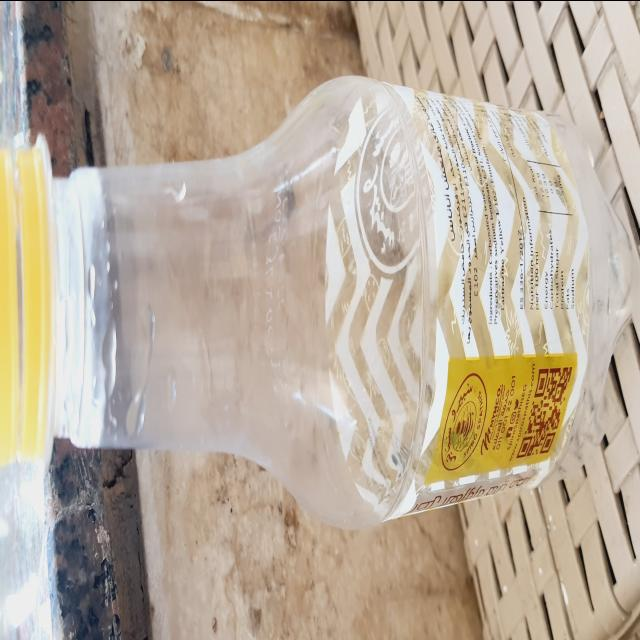plastic: (0, 65, 637, 530)
